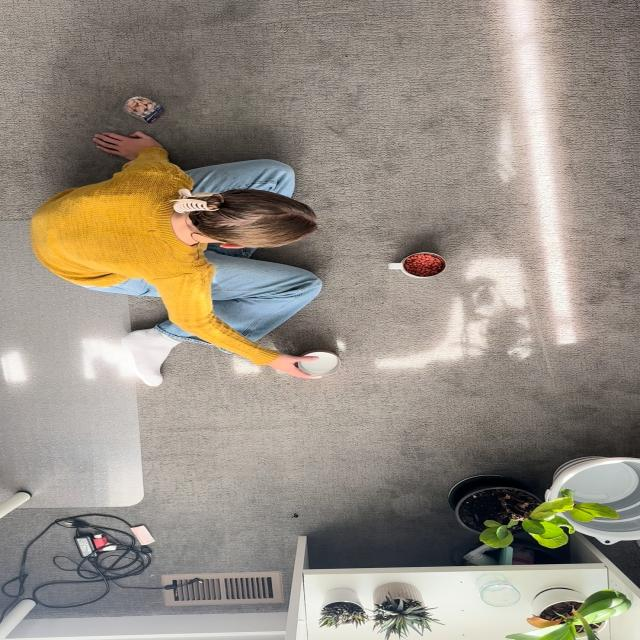IBC: (388, 252, 446, 278), (296, 350, 341, 377)
